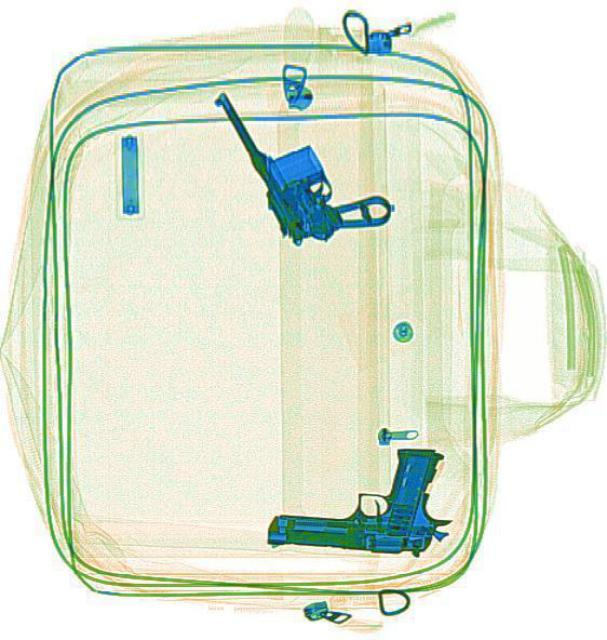Gun: (210, 48, 395, 262), (265, 442, 452, 558)
